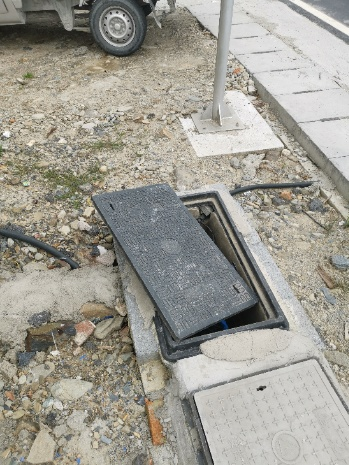well: (91, 183, 293, 355), (180, 351, 347, 465)
